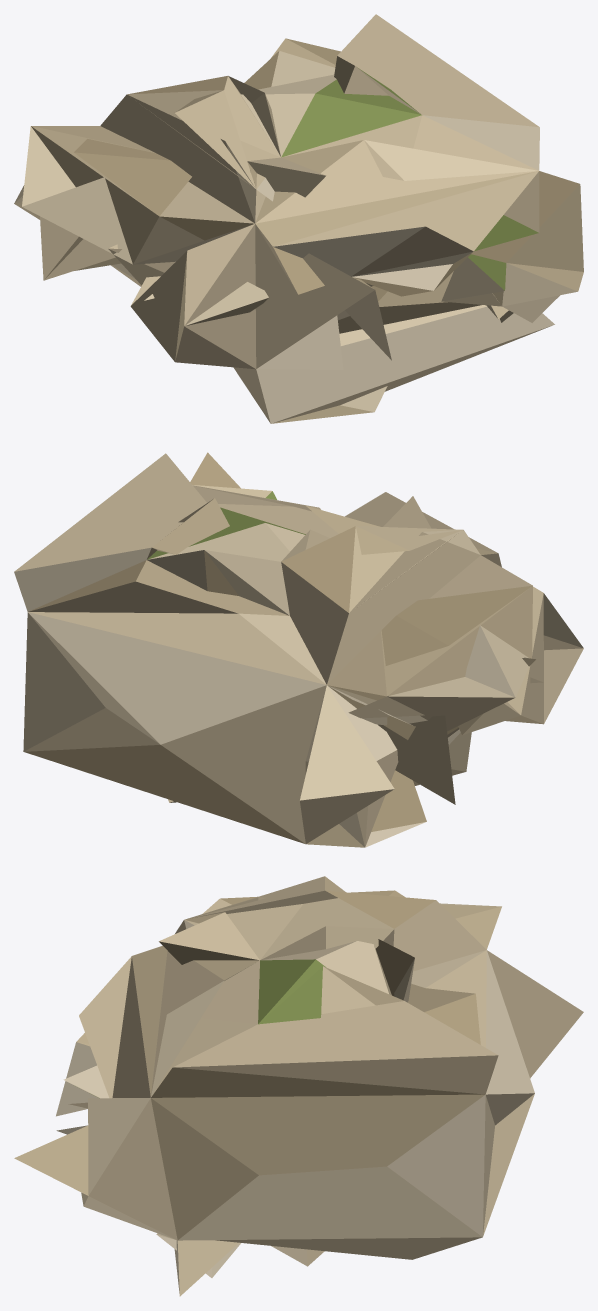
Rendered from ChunkLimestone_b.fbx.
3 views of the same model, one above another, from view 1: azimuth 30°, elevation 25°; view 2: azimuth 150°, elevation 25°; view 3: azimuth 270°, elevation 25° (orthographic). The views are drawn at different scales.
Parts seen in each view (by area): view 1: ChunkLimestone_b; view 2: ChunkLimestone_b; view 3: ChunkLimestone_b.
Boxes of the visible parts, x1,y1,x2,y2 form: ChunkLimestone_b: (14,14,583,423); ChunkLimestone_b: (14,452,583,847); ChunkLimestone_b: (14,876,583,1296).
Size of what is drawn, in the model's own units: 0.4685 by 0.2993 by 0.4913.
